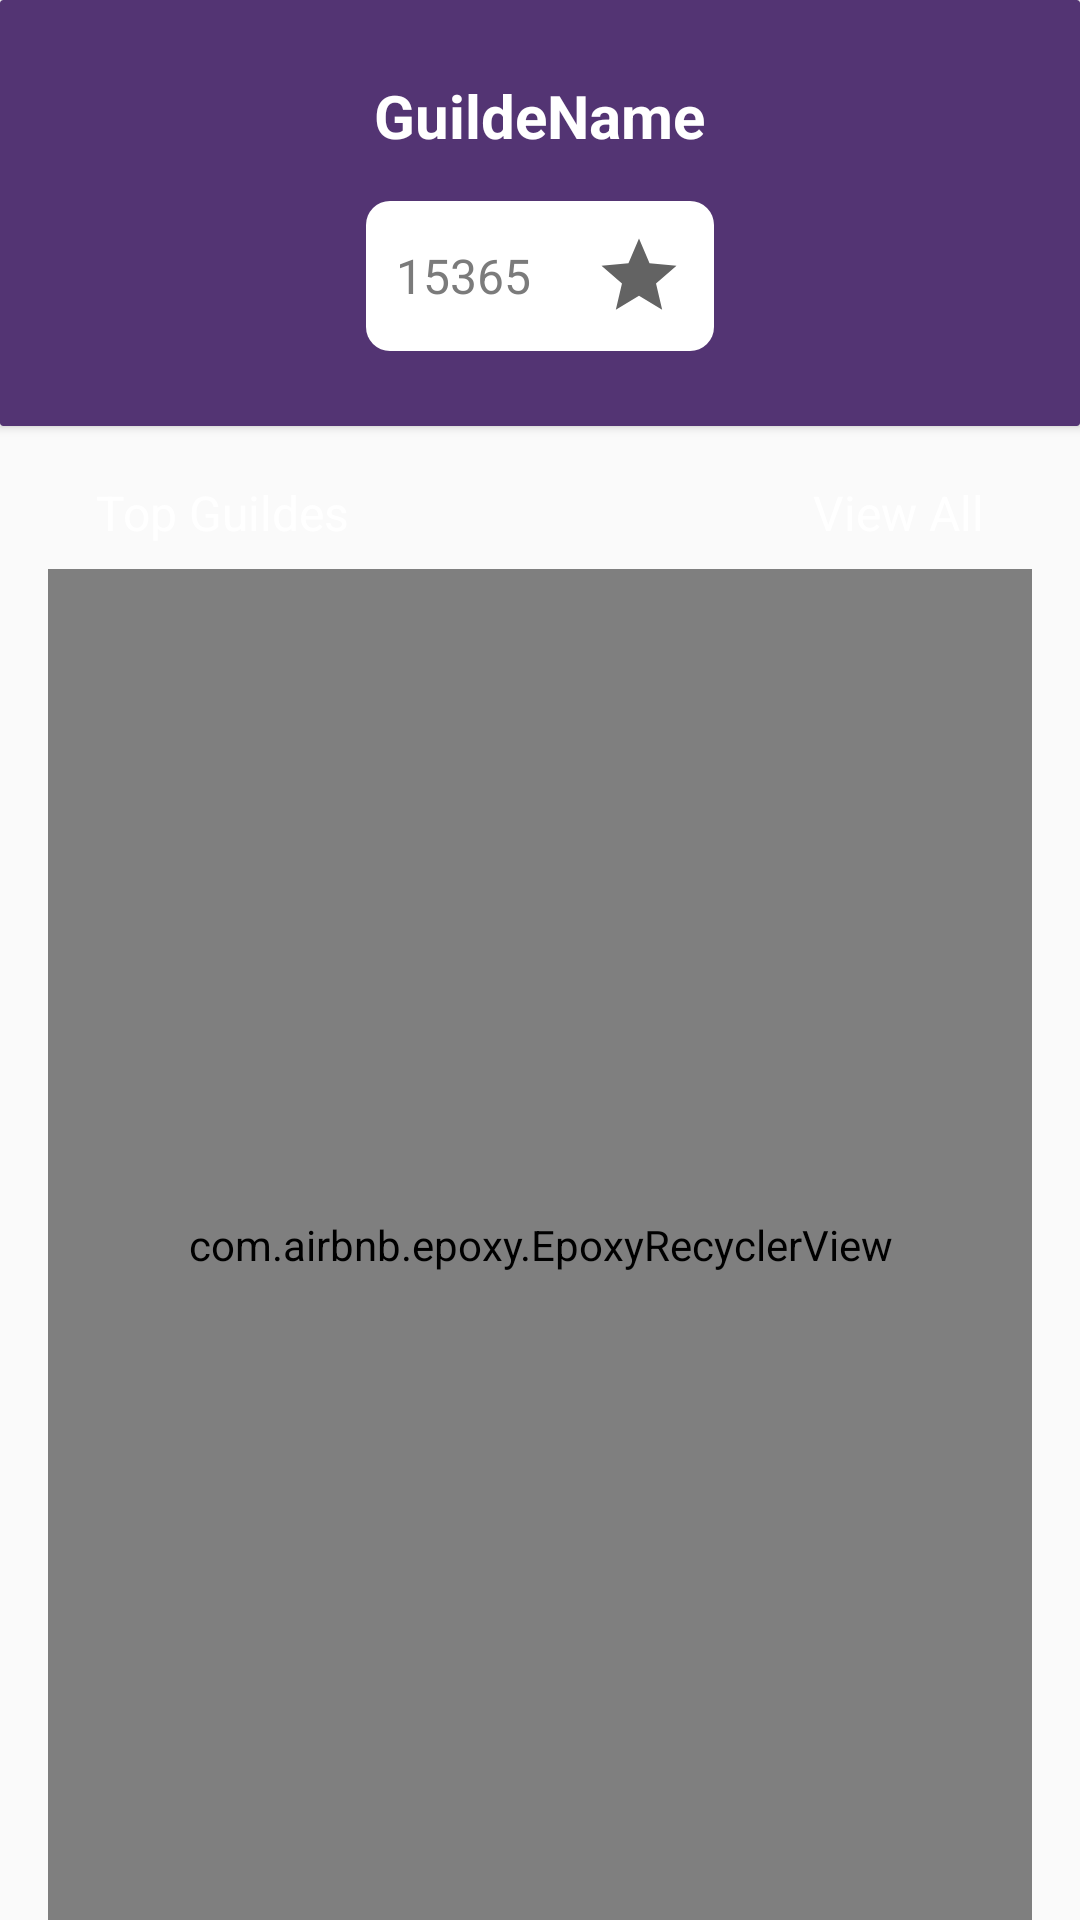

Icons on this 1080px x 1920px Android screen, each with the point to tap as (x,y):
star: (639,274)
